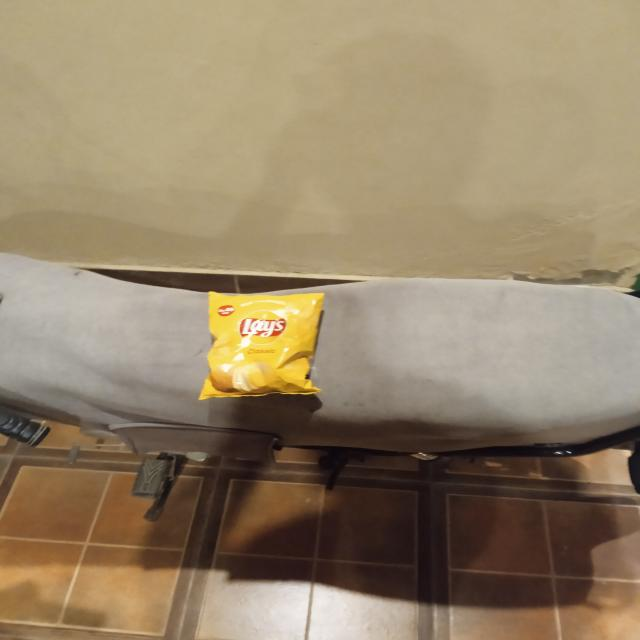Plastic: (192, 286, 330, 403)
